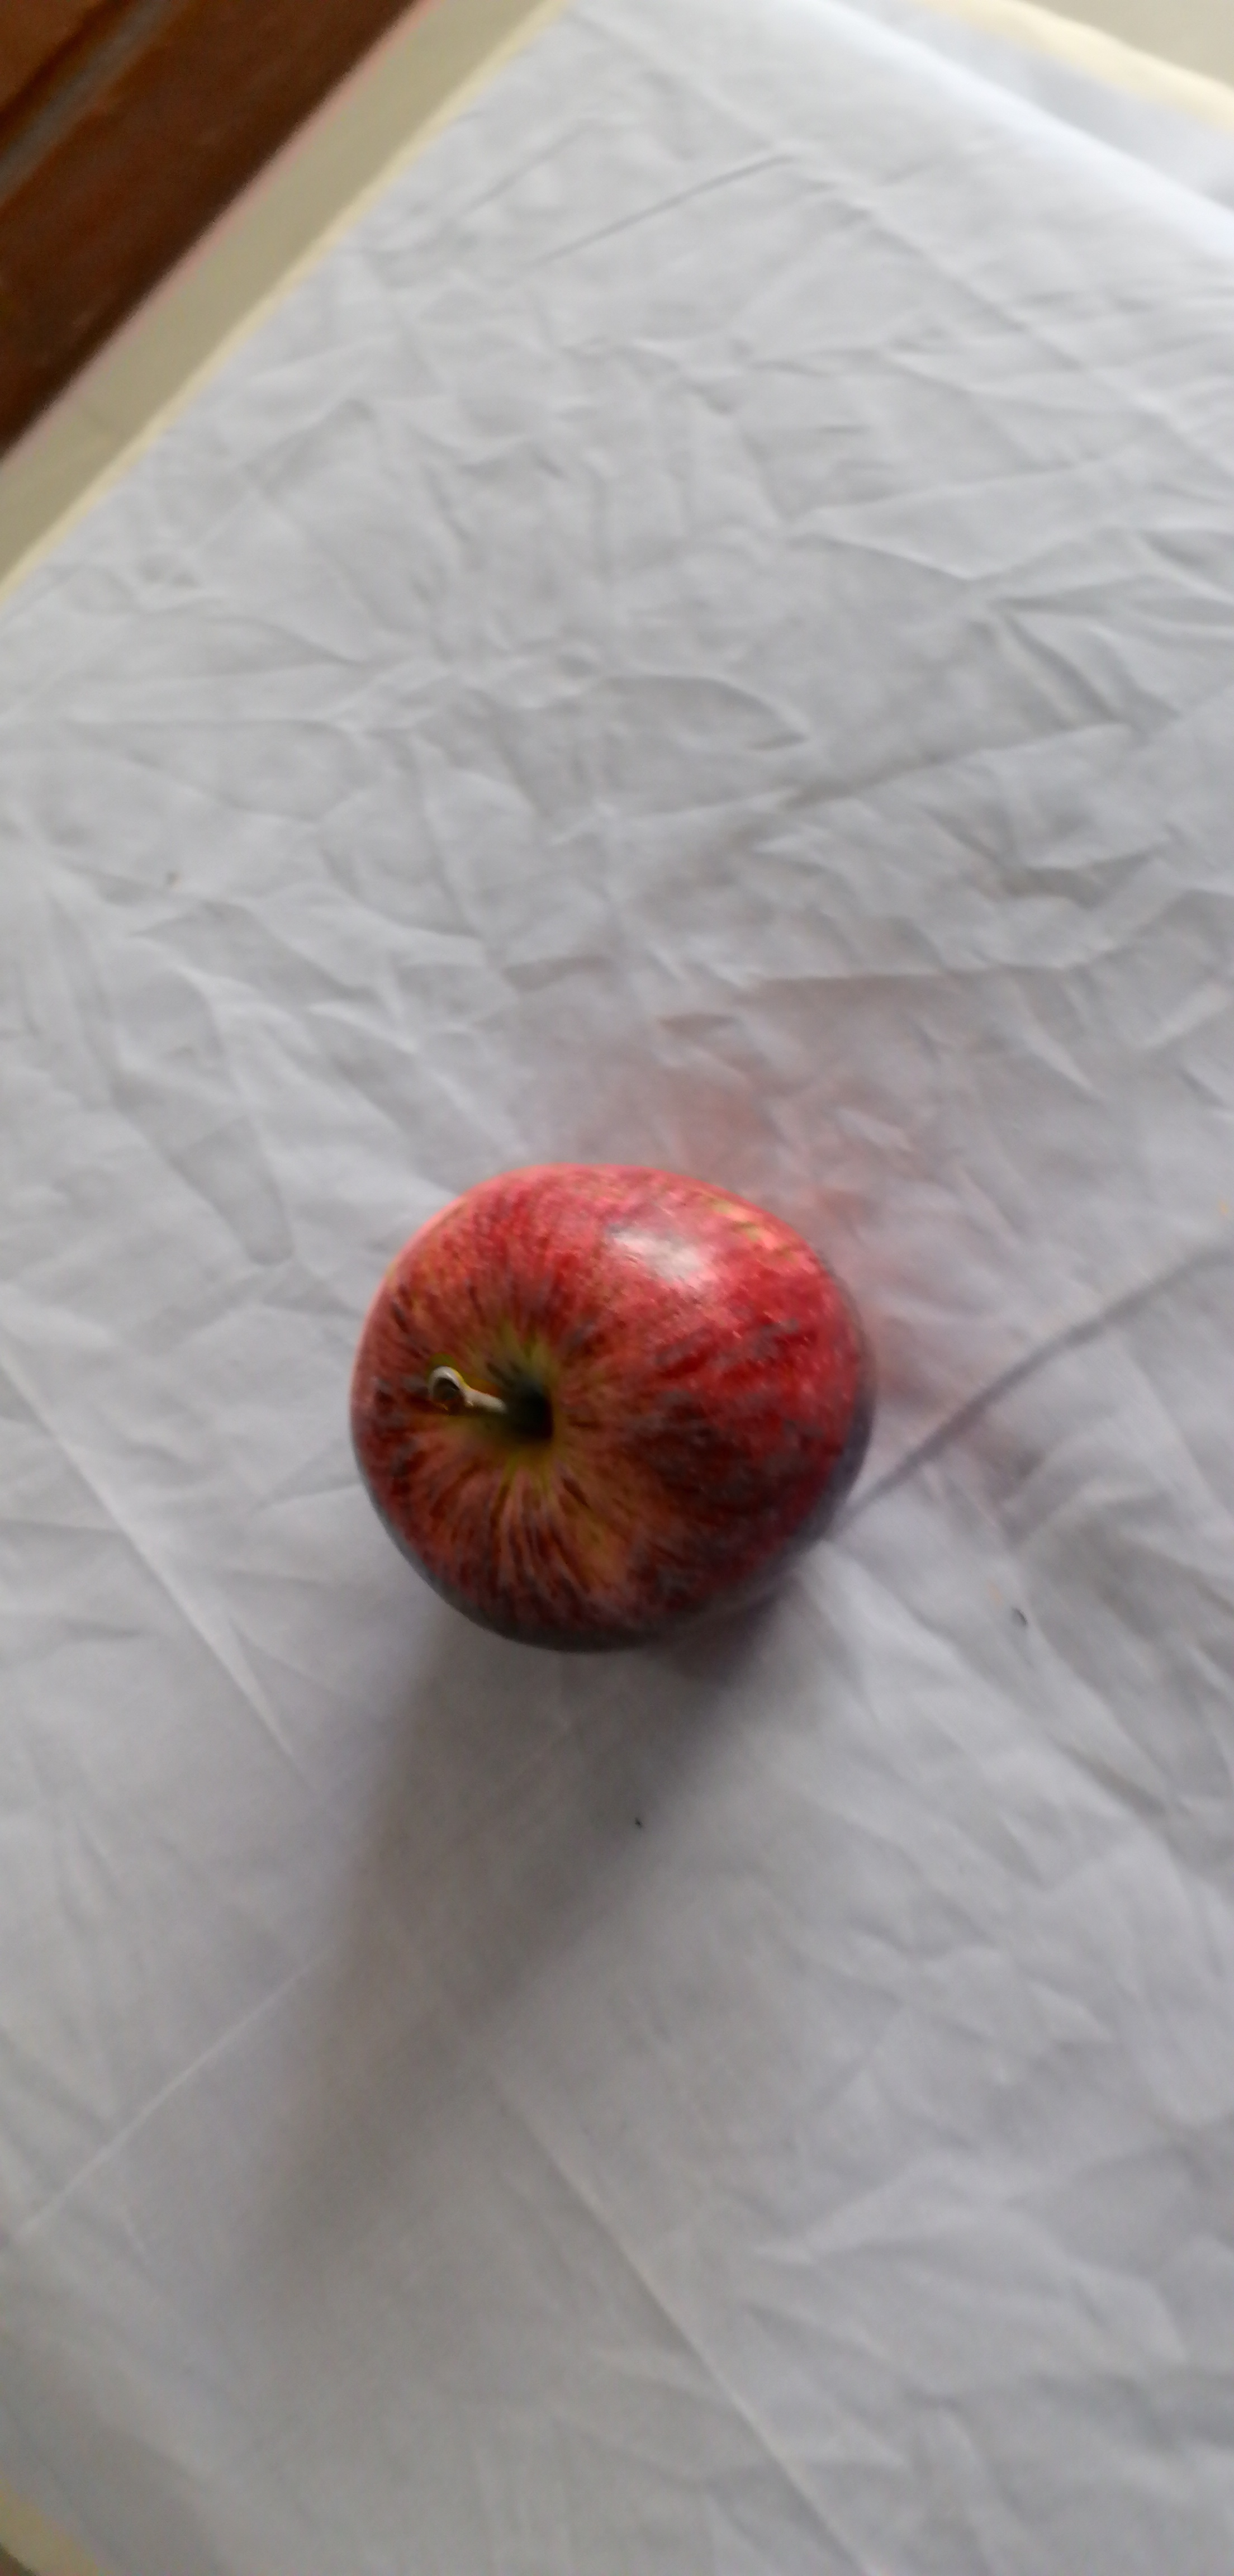apple: (347, 1166, 887, 1654)
